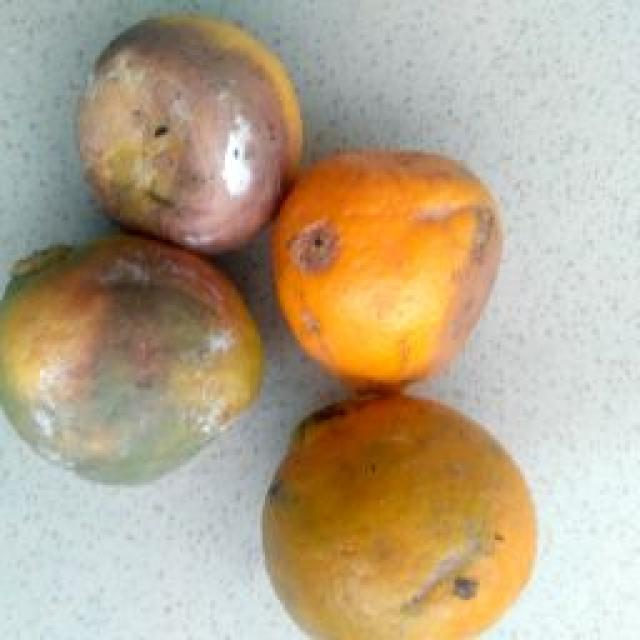Bad_Orange: (0, 234, 264, 482), (272, 152, 501, 388), (79, 15, 301, 253)
